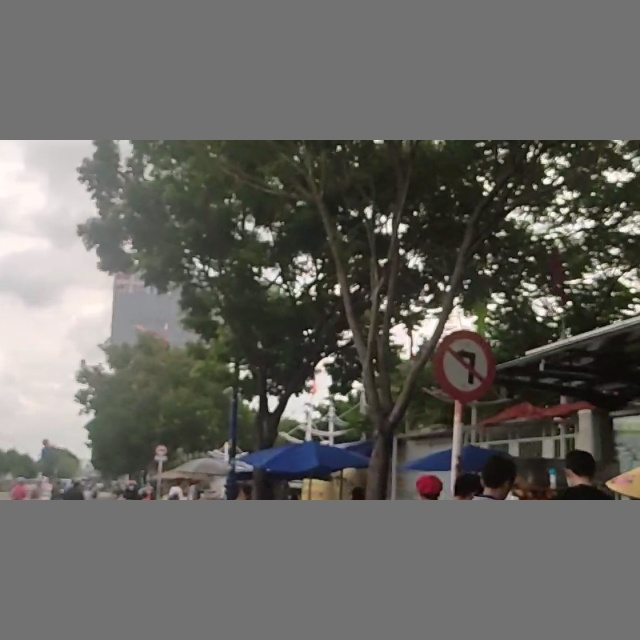P.123a: (435, 329, 491, 399)
